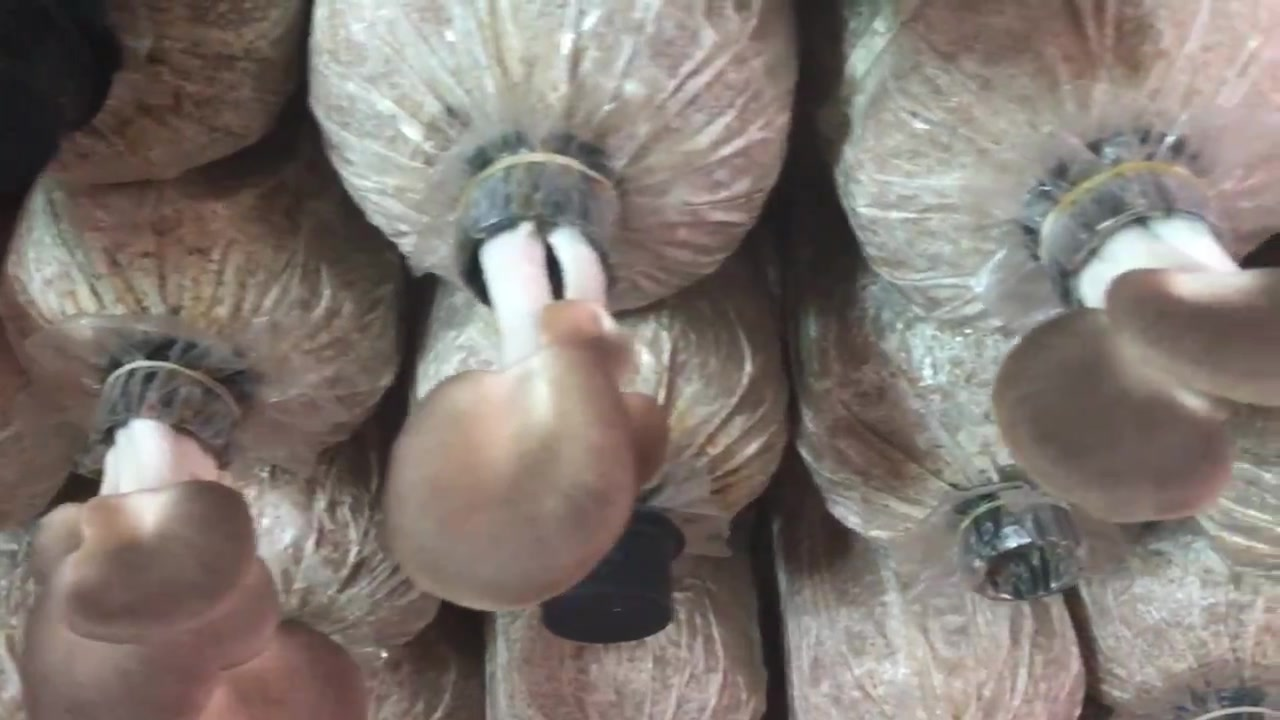nam: (385, 156, 670, 612), (22, 366, 362, 720), (991, 160, 1280, 521)
